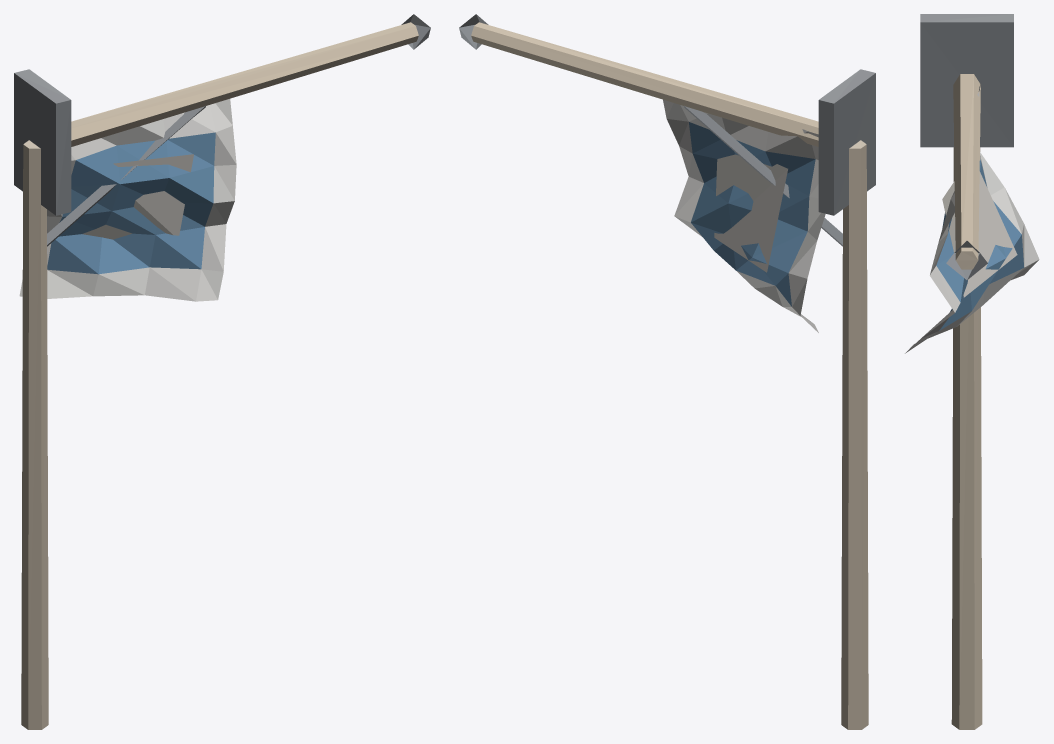
The model's file is flag.square.qingqi__pole.horizontal.xiecheng__armHang.glb.
3 views of the same model, side by side, from view 1: azimuth 30°, elevation 25°; view 2: azimuth 150°, elevation 25°; view 3: azimuth 270°, elevation 25° (orthographic). The views are drawn at different scales.
Visible parts, largest first — view 1: flag.square.qingqi; view 2: flag.square.qingqi; view 3: flag.square.qingqi.
Part boxes in pixels (left/top/right/bottom): flag.square.qingqi: left=14, top=14, right=430, bottom=729; flag.square.qingqi: left=459, top=14, right=875, bottom=729; flag.square.qingqi: left=905, top=14, right=1039, bottom=729.
Bounding box in the file's own units: 2.12 × 3.18 × 0.5482.
